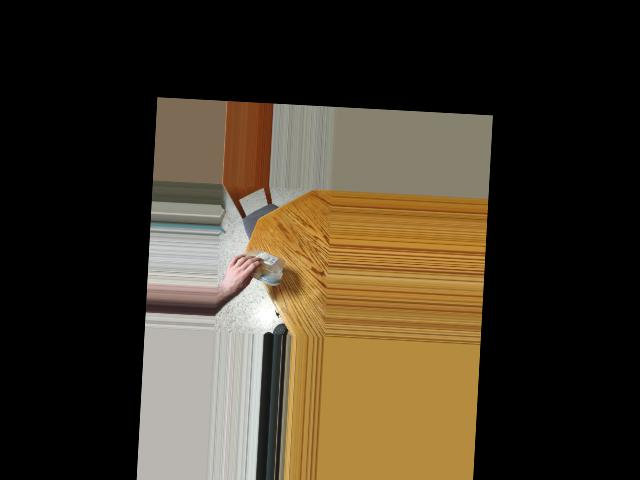cheese: (241, 248, 282, 283)
